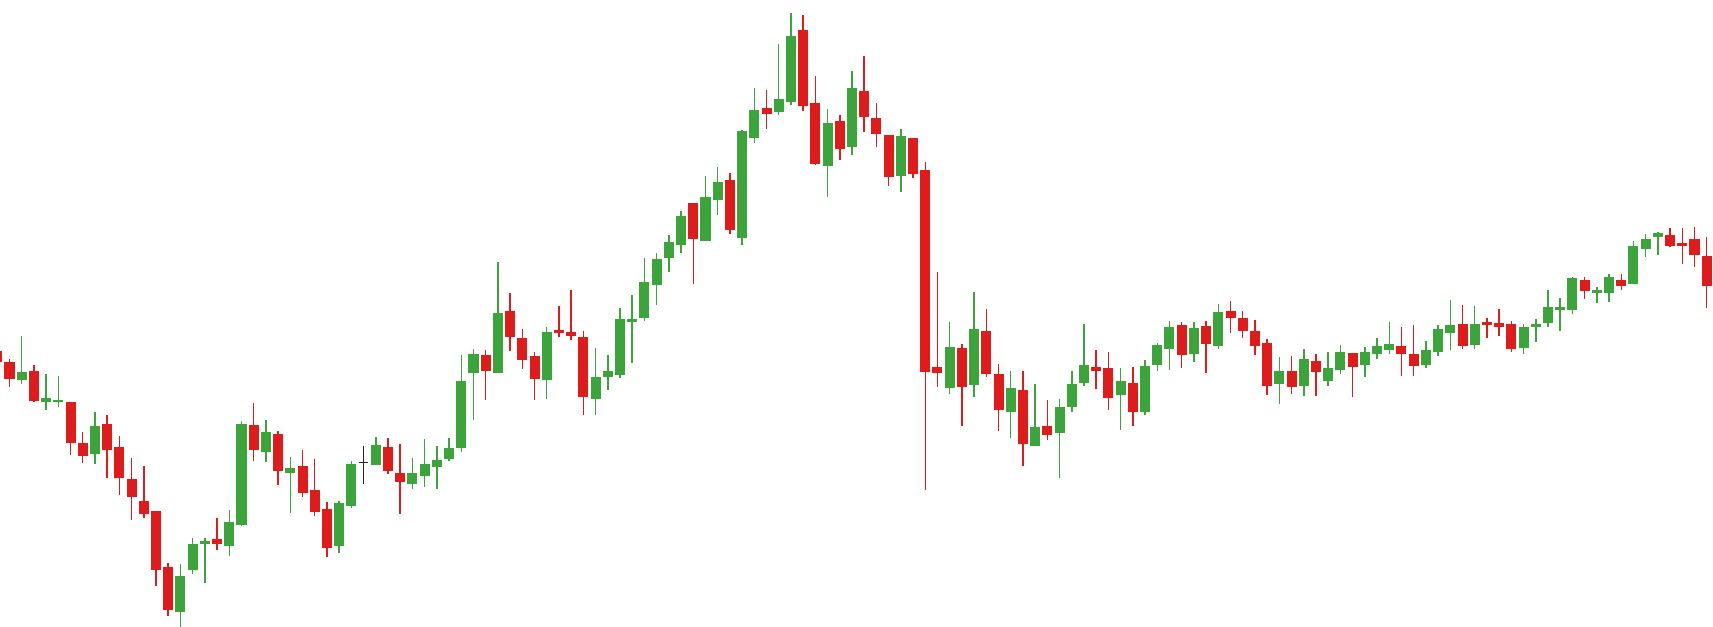buy: (528, 306, 602, 419)
